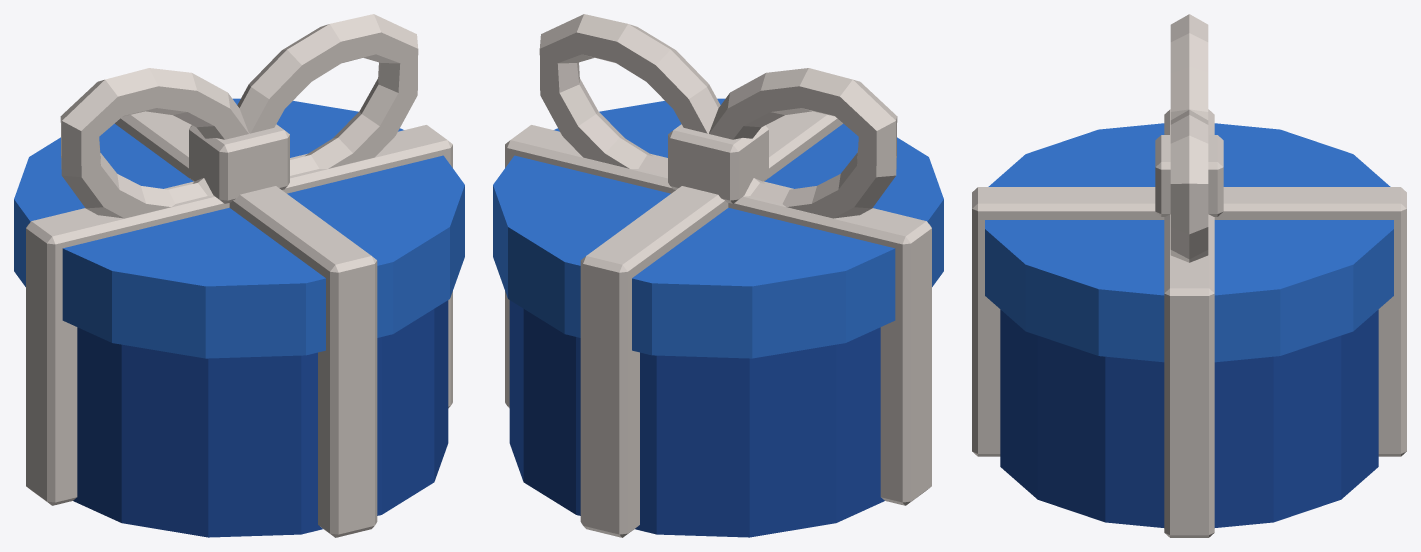
Rendered from Present_Round.glb.
3 views of the same model, side by side, from view 1: azimuth 30°, elevation 25°; view 2: azimuth 150°, elevation 25°; view 3: azimuth 270°, elevation 25° (orthographic). The views are drawn at different scales.
Visible parts, largest first — view 1: Present_Round; view 2: Present_Round; view 3: Present_Round.
Part boxes in pixels (left/top/right/bottom): Present_Round: left=14, top=14, right=464, bottom=537; Present_Round: left=493, top=14, right=943, bottom=537; Present_Round: left=972, top=14, right=1406, bottom=537.
Size of the model in its own units: 2.24 by 2.13 by 2.24.
